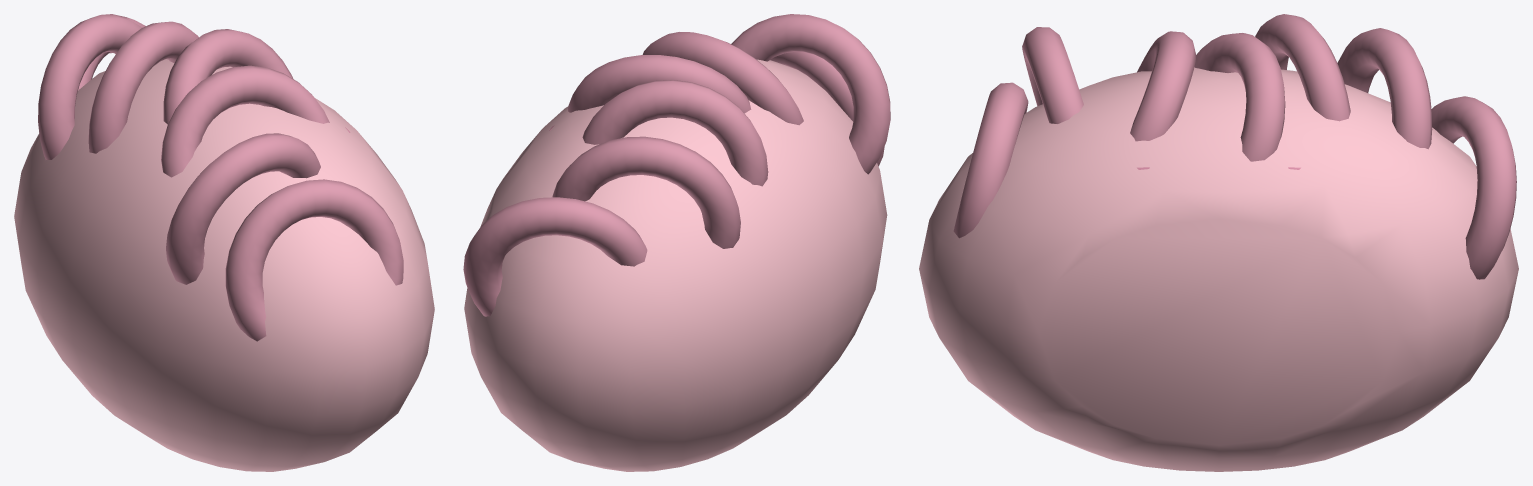
Rendered from chunk14.glb.
3 renders of one model, left to right at view 1: azimuth 30°, elevation 25°; view 2: azimuth 150°, elevation 25°; view 3: azimuth 270°, elevation 25°, orthographic. The views are drawn at different scales.
Visible parts, largest first — view 1: brain, fold; view 2: brain, fold; view 3: brain, fold.
Part boxes in pixels (x1=…): brain: x1=14, y1=59, x2=434, y2=471; fold: x1=38, y1=14, x2=403, y2=341; brain: x1=464, y1=59, x2=887, y2=471; fold: x1=463, y1=14, x2=890, y2=316; brain: x1=919, y1=67, x2=1518, y2=471; fold: x1=953, y1=14, x2=1516, y2=279.
Bounding box in the file's own units: 0.9145 × 1.24 × 1.61.
